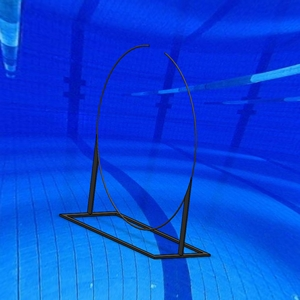circle: (58, 42, 212, 261)
